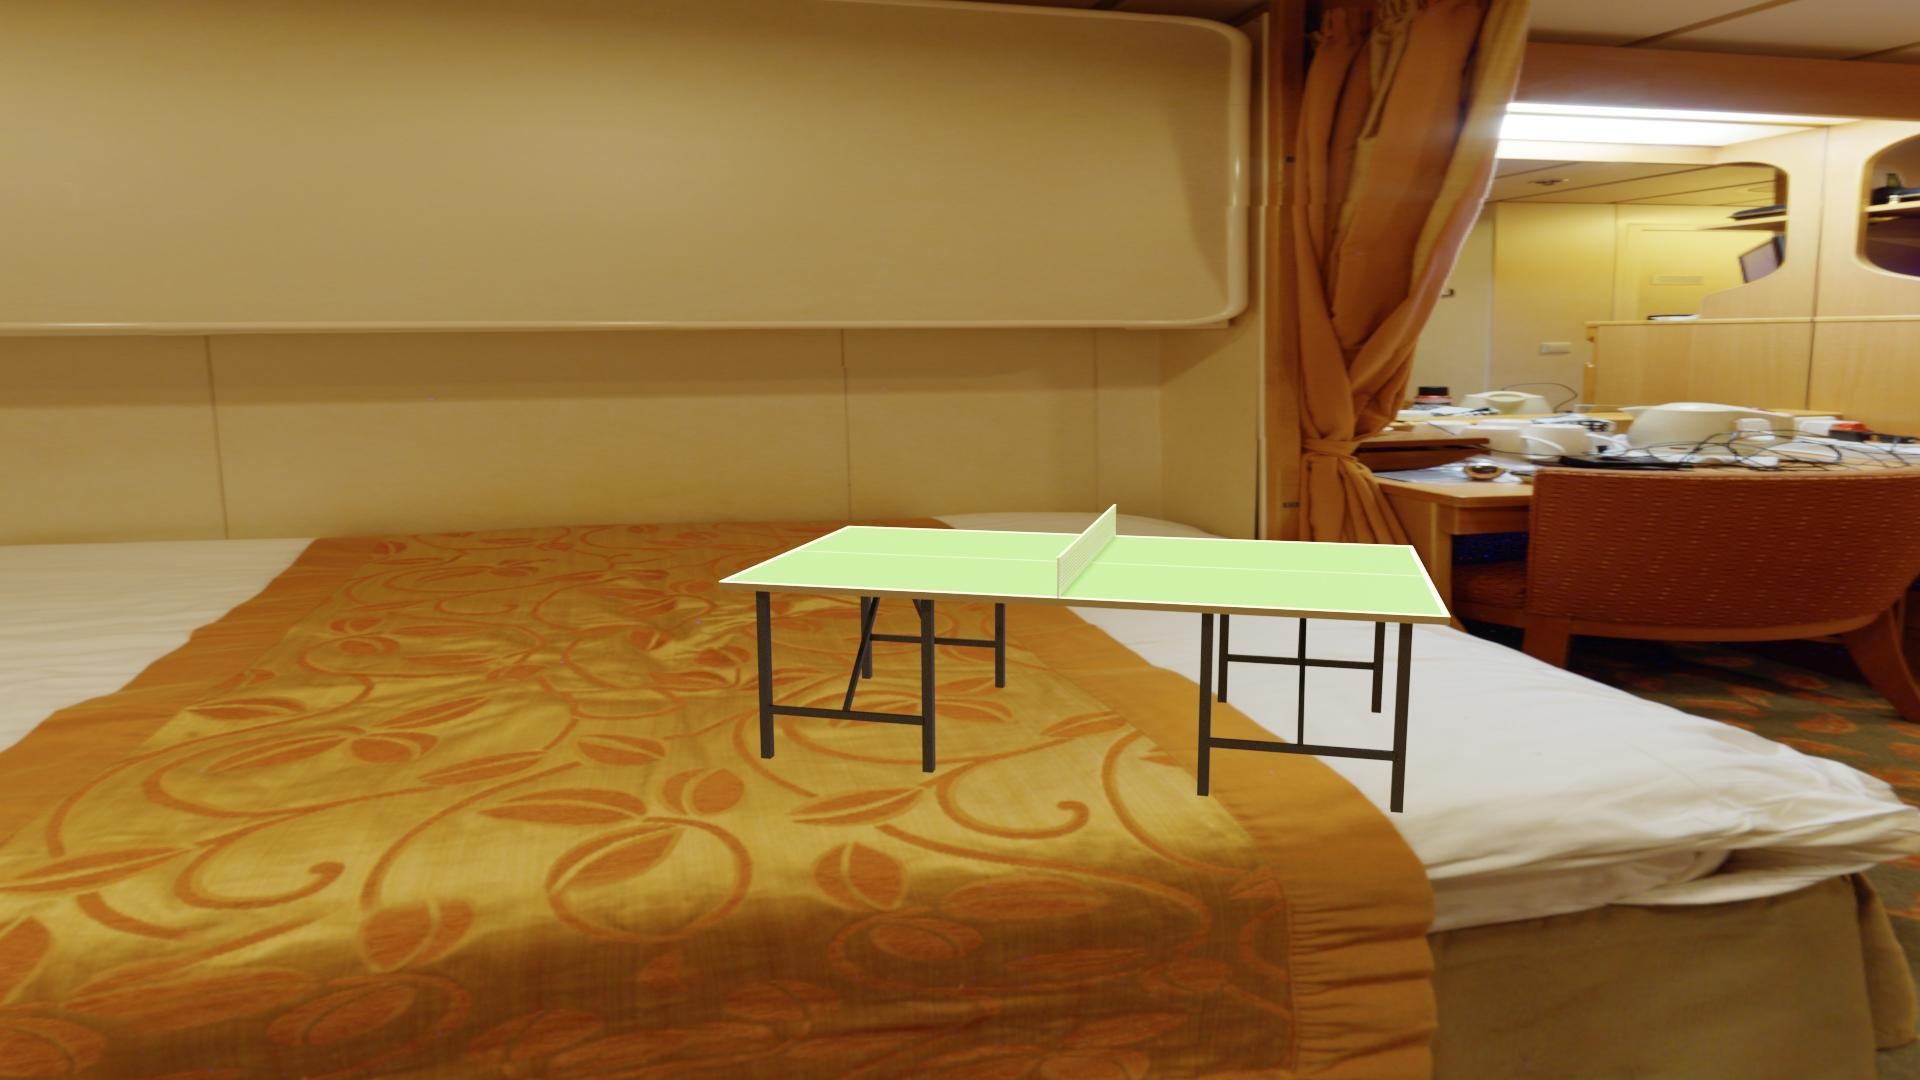table: (725, 527, 1444, 616)
